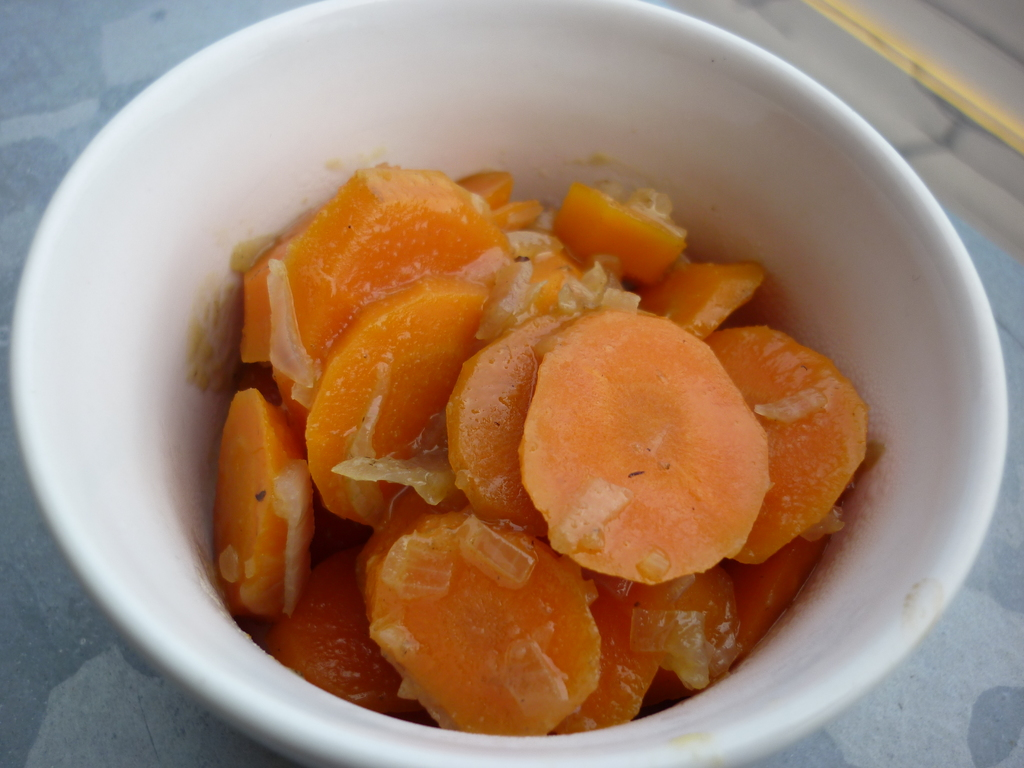Carrot: (211, 160, 867, 737)
